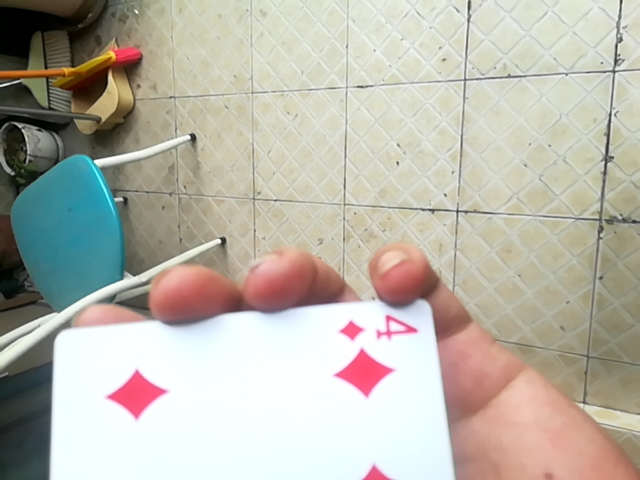fk 4: (32, 291, 466, 478)
